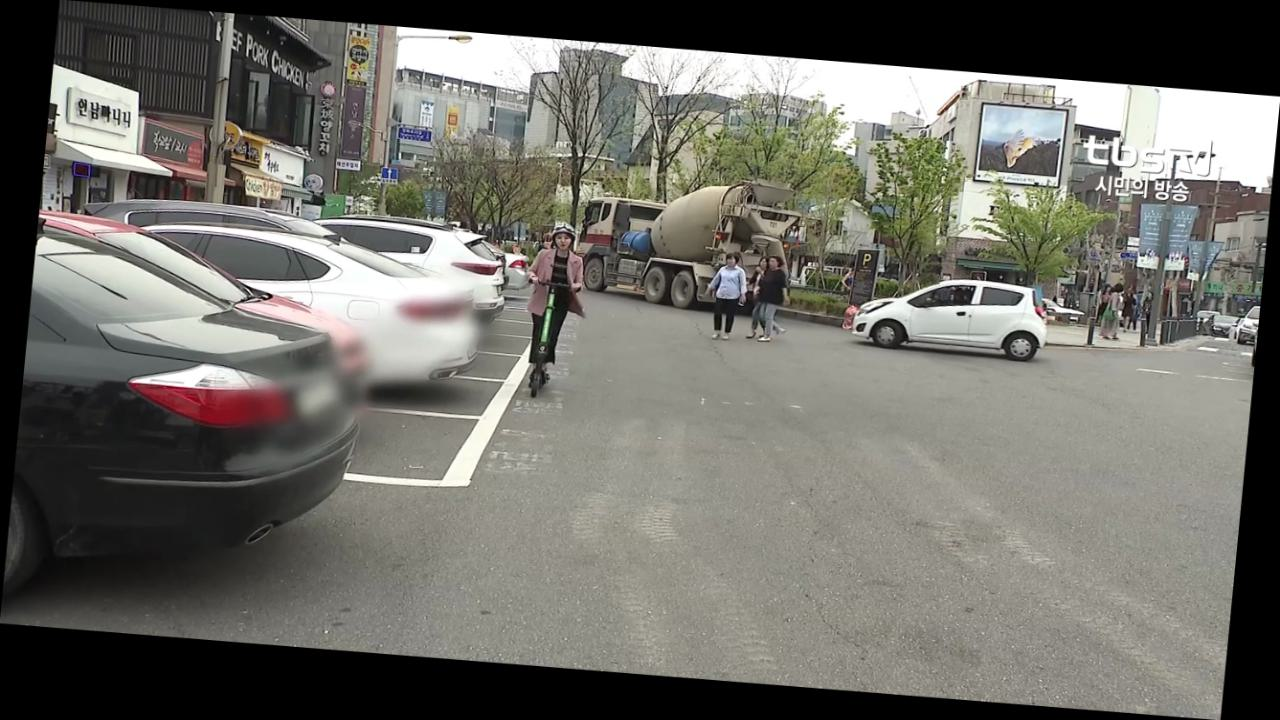helmet: (508, 216, 600, 404)
